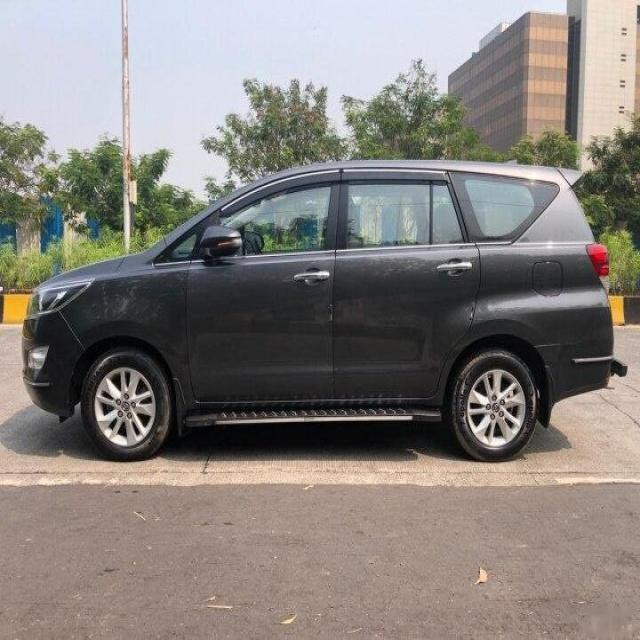light_vehicle: (20, 158, 623, 465)
